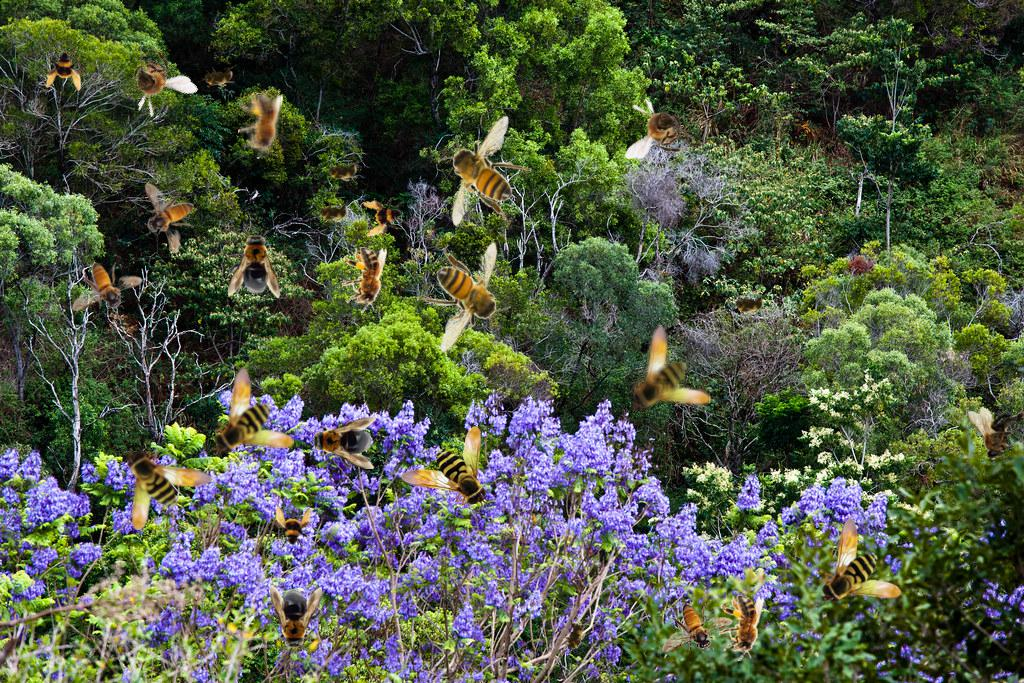Bee: (417, 242, 511, 353), (438, 115, 532, 226), (107, 34, 200, 128), (212, 367, 294, 455), (125, 448, 213, 530), (400, 426, 488, 508), (629, 324, 711, 412), (819, 517, 901, 605), (625, 98, 695, 159), (72, 262, 143, 312), (144, 183, 194, 254), (662, 603, 733, 653), (308, 417, 376, 469), (270, 585, 322, 653), (228, 230, 280, 298), (238, 93, 283, 159), (719, 595, 764, 661), (342, 247, 387, 313), (968, 408, 1024, 461), (358, 191, 412, 245), (269, 506, 313, 550), (44, 47, 88, 91), (557, 614, 591, 660), (197, 64, 239, 90), (313, 201, 353, 223), (729, 293, 769, 315), (322, 160, 362, 182)
